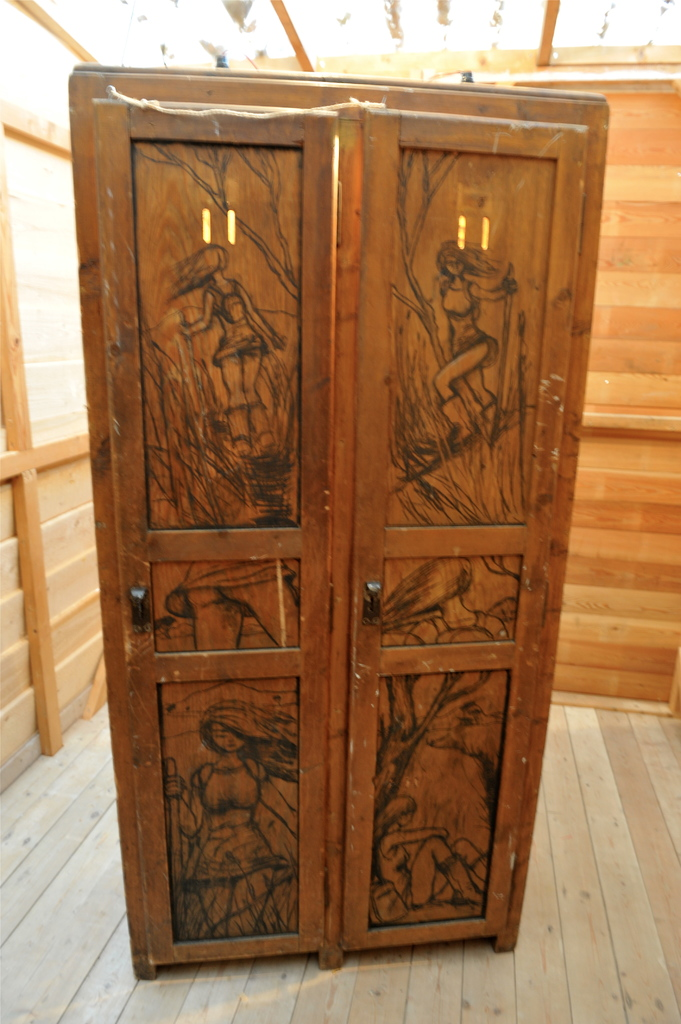cabinet door: (121, 119, 322, 954), (360, 124, 519, 946)
handle: (357, 563, 385, 641), (129, 582, 155, 646)
